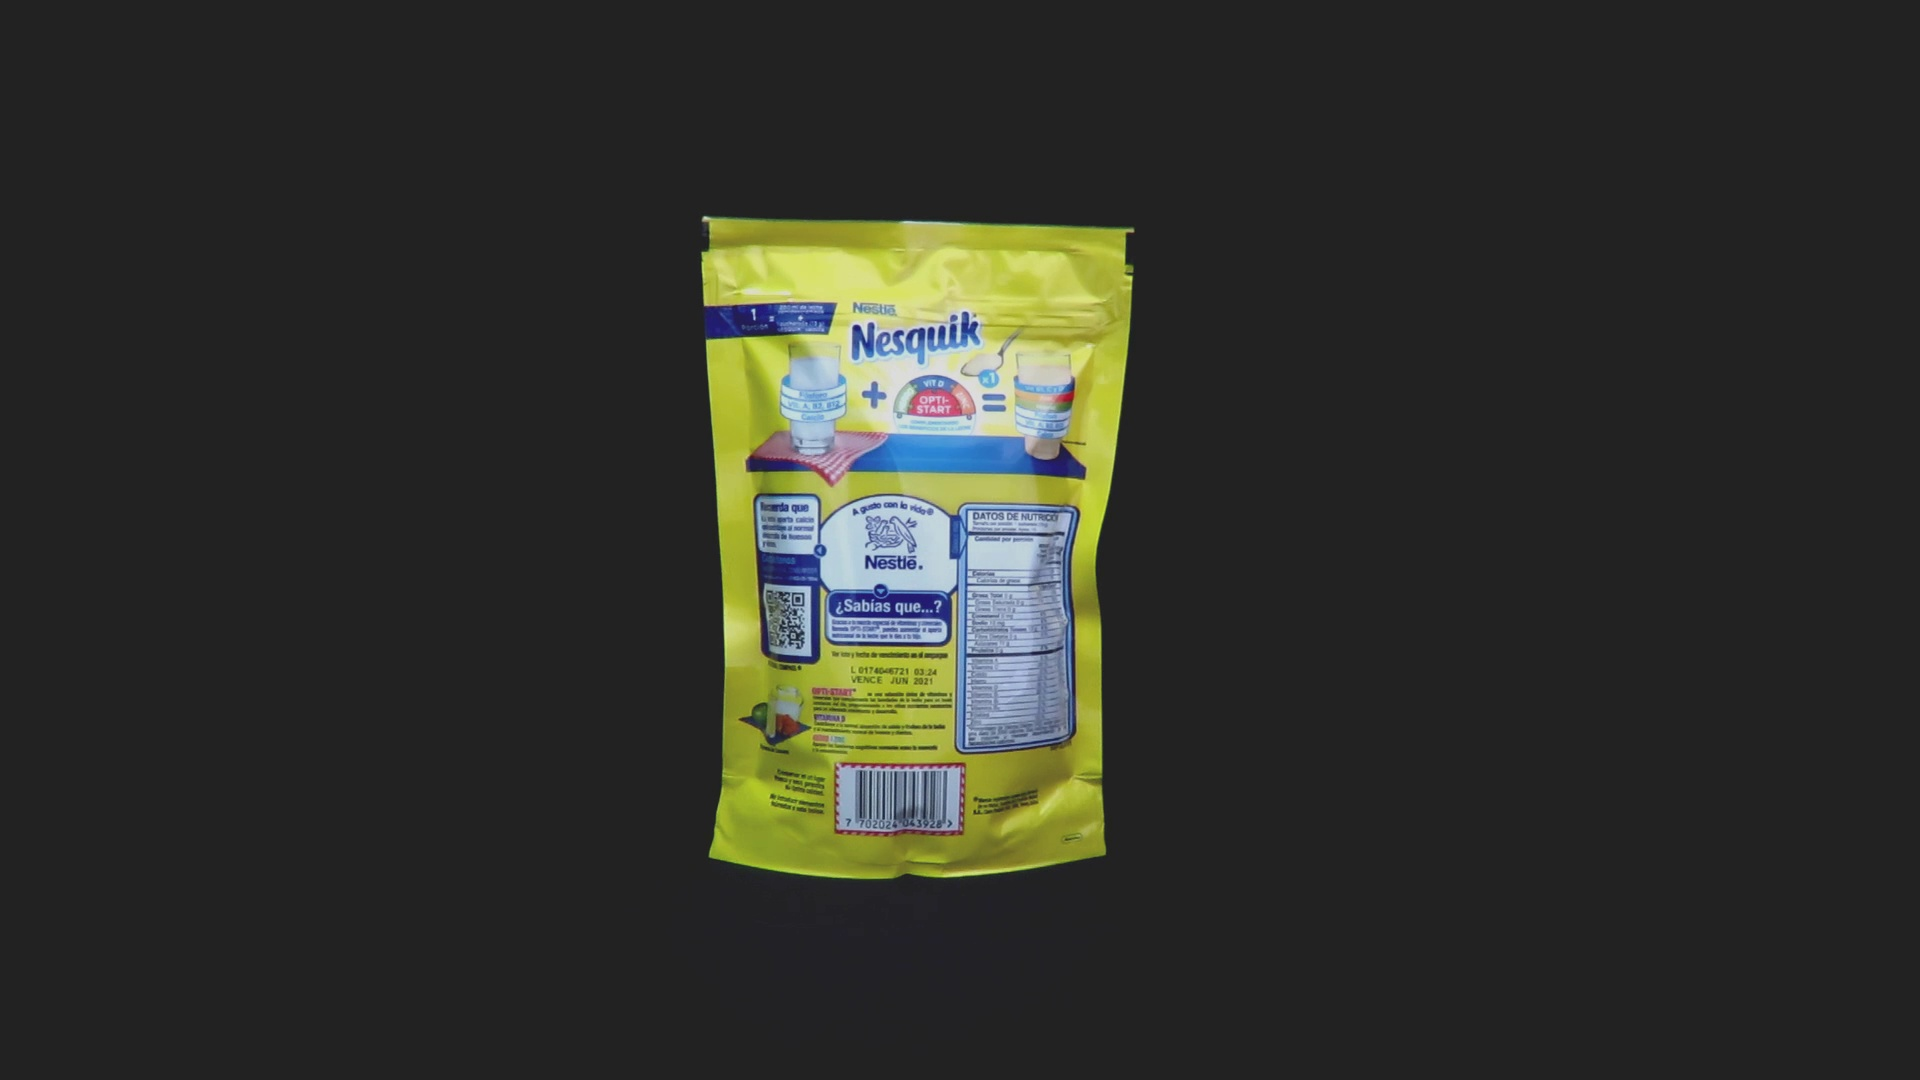COL0170306DYP20000: (696, 211, 1141, 885)
